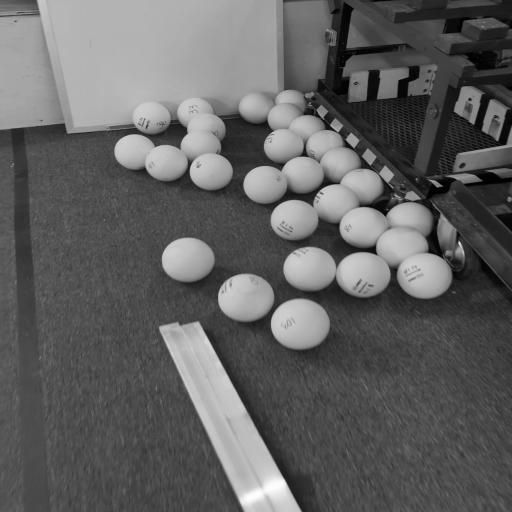fuel: (271, 299, 330, 350), (219, 274, 274, 322), (397, 253, 452, 299), (337, 252, 391, 298), (162, 238, 214, 282), (284, 247, 336, 291), (376, 227, 428, 268), (340, 207, 388, 248), (271, 200, 318, 240), (314, 184, 359, 223), (244, 166, 287, 204), (387, 202, 433, 237), (341, 169, 383, 206), (320, 147, 363, 183), (190, 154, 233, 190), (282, 157, 324, 193), (146, 145, 188, 181), (115, 135, 155, 169), (264, 129, 303, 163), (306, 130, 345, 162), (181, 131, 221, 162), (133, 102, 171, 134), (239, 93, 274, 123), (178, 98, 214, 127), (188, 114, 225, 141), (289, 116, 325, 143), (268, 103, 302, 130), (275, 90, 306, 114)
